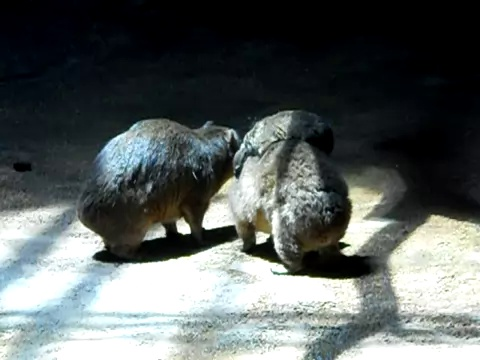Rock Hyrex: (70, 120, 243, 257), (232, 111, 348, 274)
